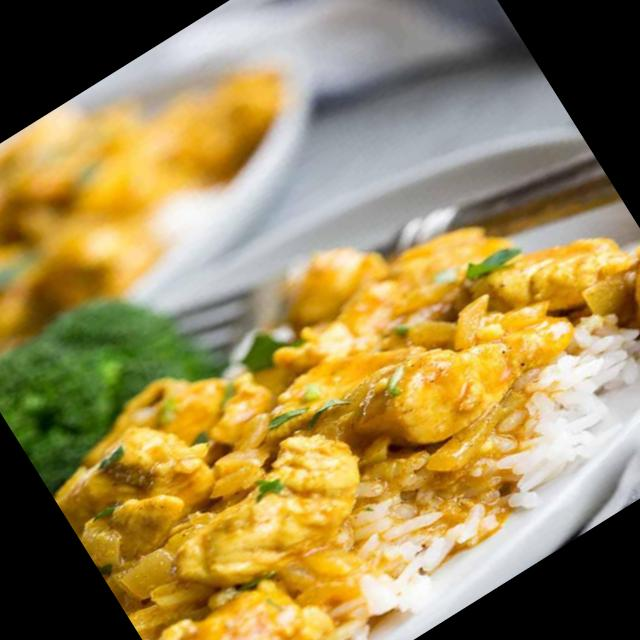chicken: (7, 151, 640, 640)
